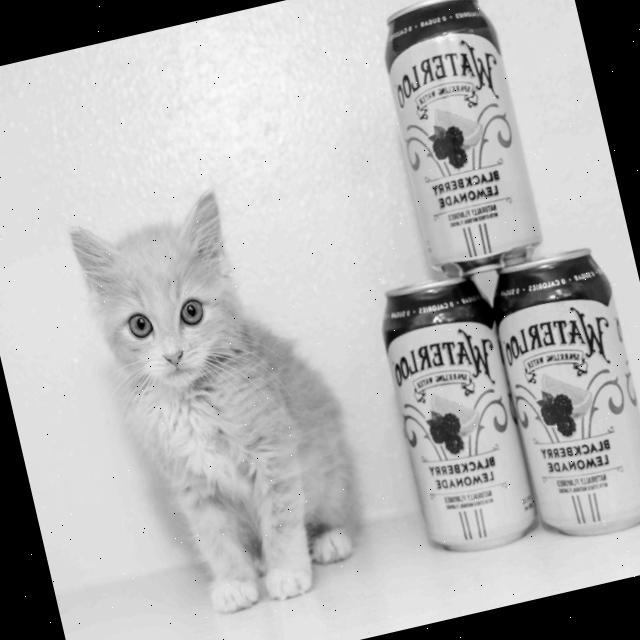manx_cat: (51, 171, 278, 421)
